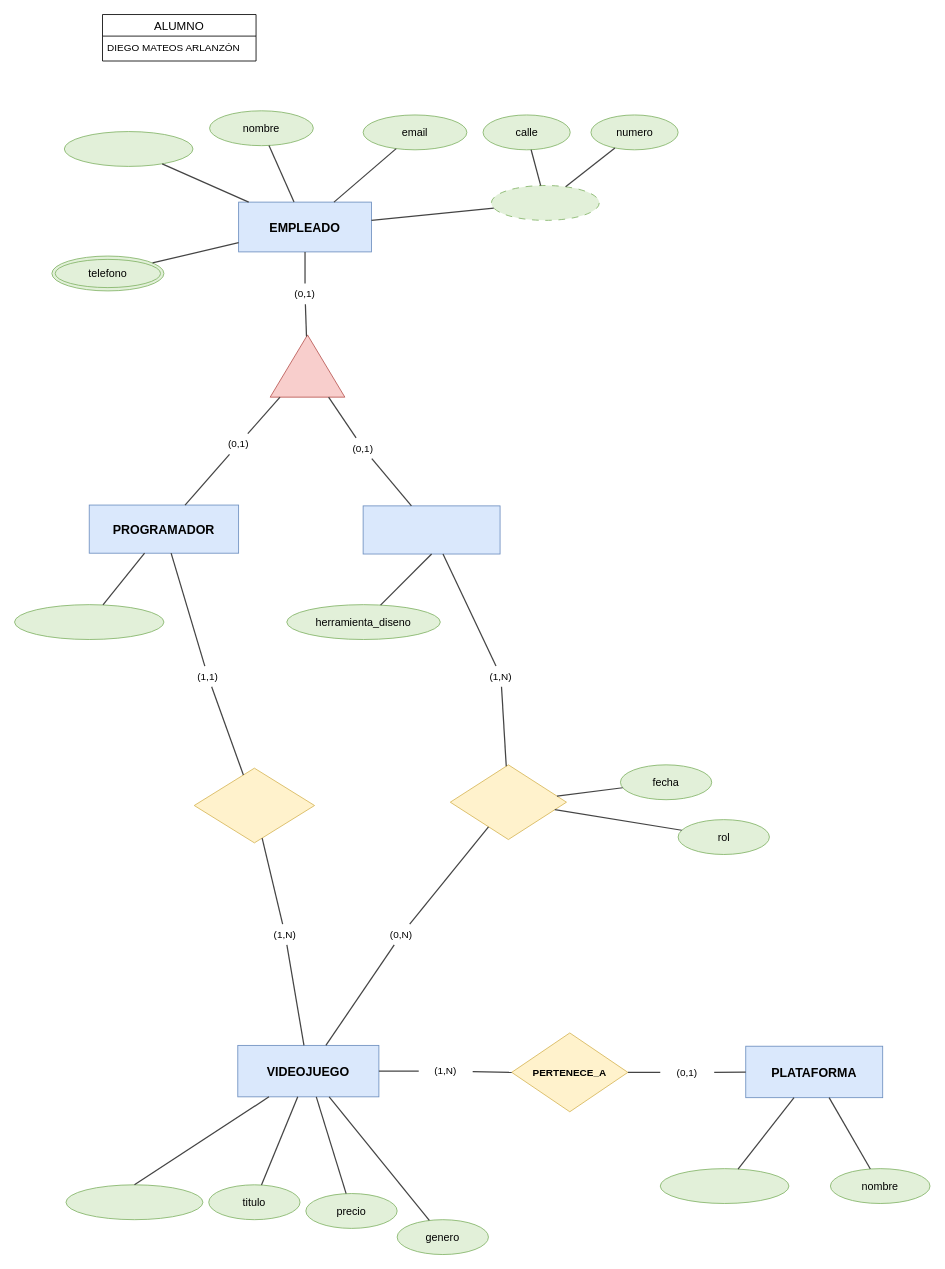
Some shapes in this 945 by 1269 pixel diagram are drawn without their labels. Each missing label, with the centre of its shape:
"COLABORA" goes at point (507, 802).
"DESARROLLA" goes at point (254, 805).
"direccion" goes at point (545, 202).
"DISEÑADOR" goes at point (431, 529).
"id_empleado" goes at point (128, 148).
"id_plataforma" goes at point (724, 1186).
"id_videojuego" goes at point (134, 1202).
"ISA" goes at point (307, 365).
"lenguaje_principal" goes at point (89, 622).
